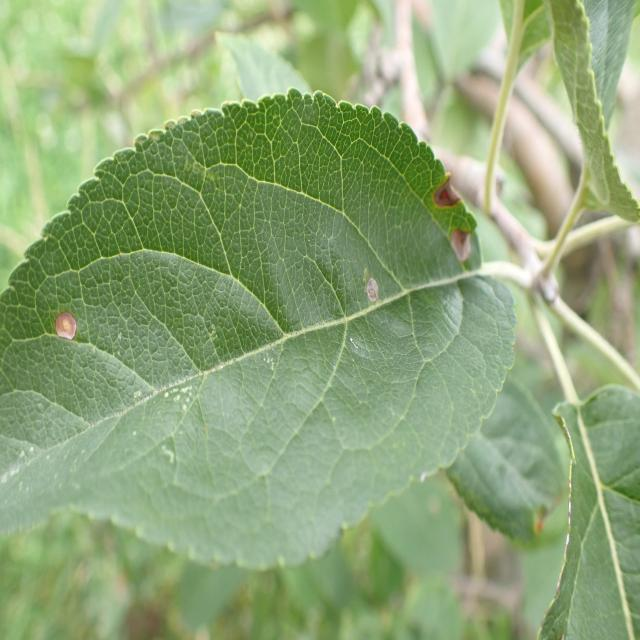Black Rot: (41, 298, 98, 358), (348, 255, 398, 314), (414, 168, 476, 214), (443, 224, 477, 266)
